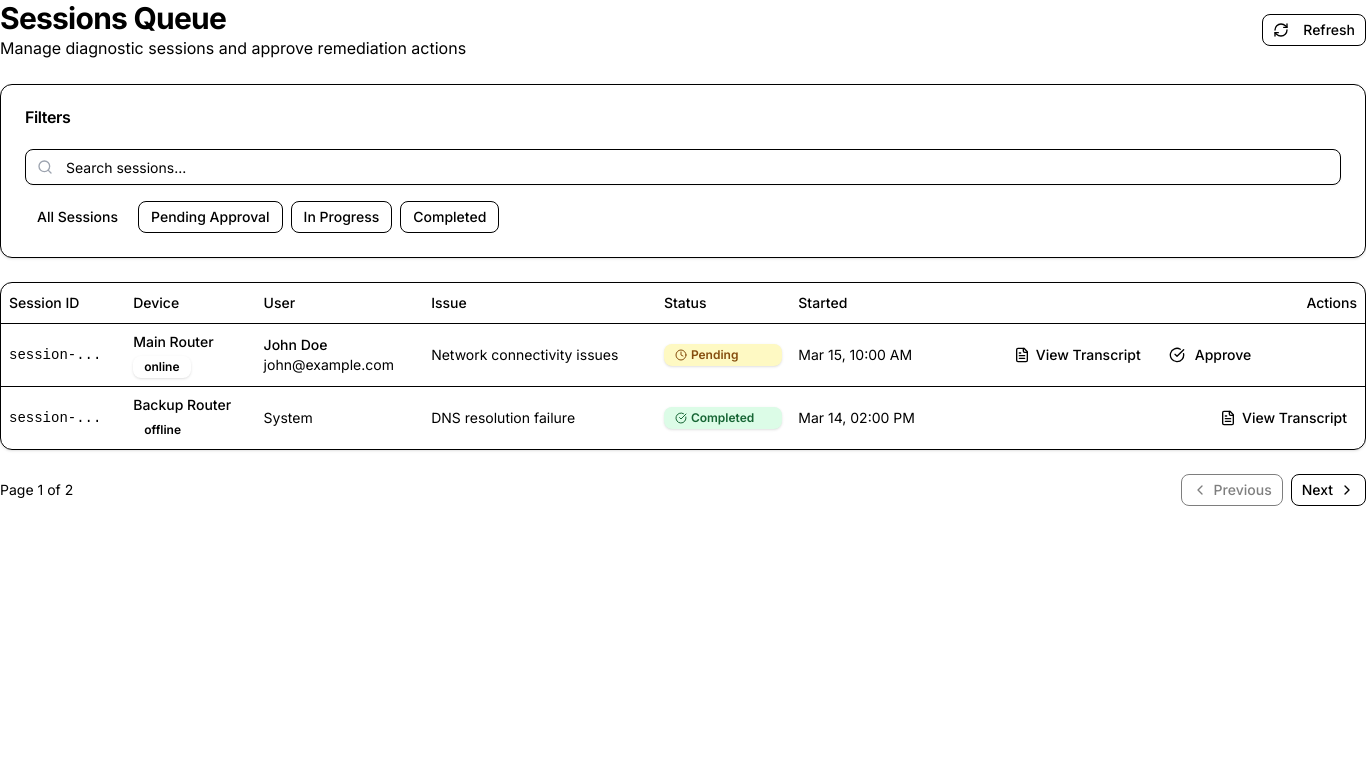
Test: SessionsPage › opens transcript modal and shows transcript entries
Click the button "View Transcript" in the row of "Main Router".
click(1077, 354)  # box x1=1004 y1=338 x2=1151 y2=370
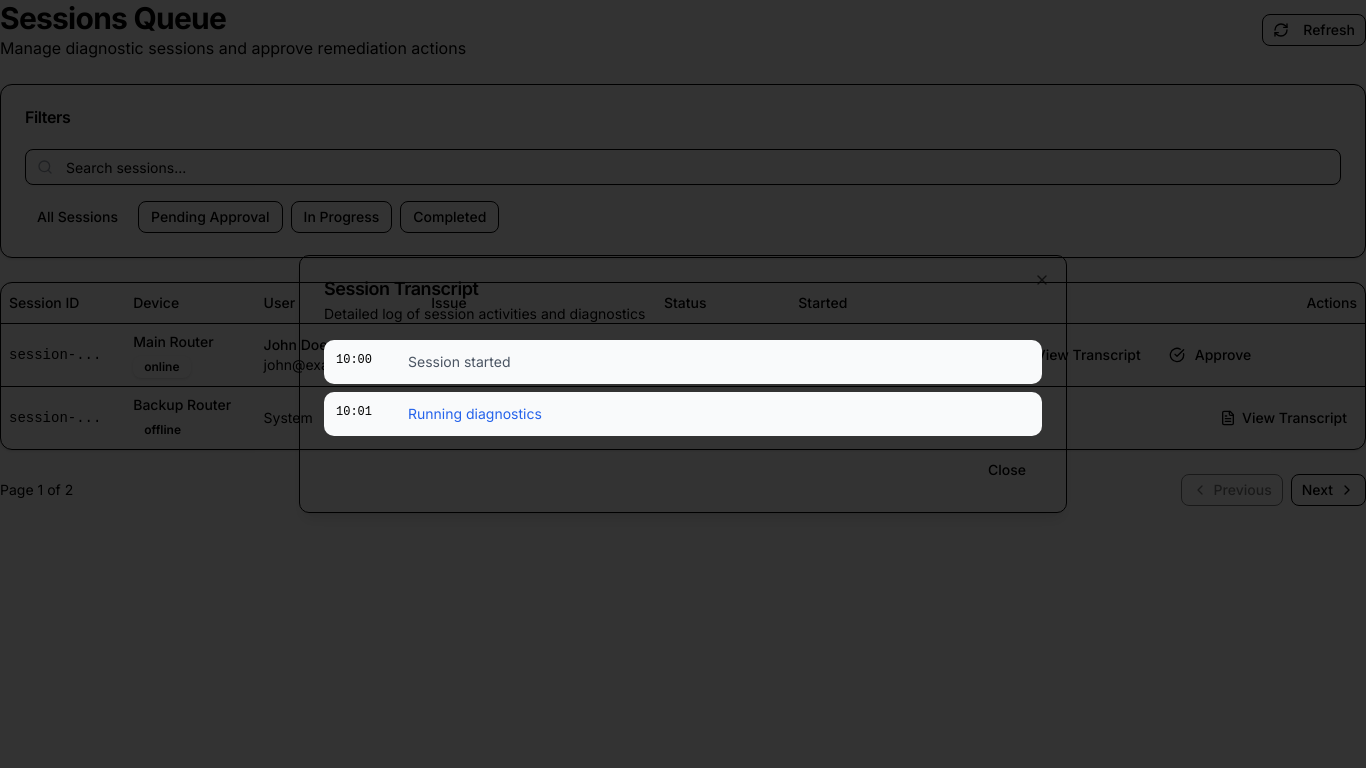
Check: the heading "Session Transcript" is shown, box x1=324 y1=278 x2=478 y2=299
Check: the element with test id "transcript-system" is shown, box x1=324 y1=340 x2=1042 y2=384
